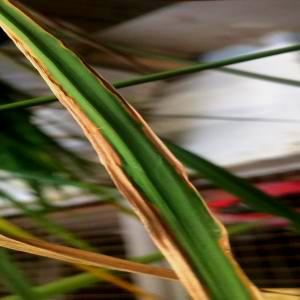2 BacterialBlight: (147, 178, 229, 300)
